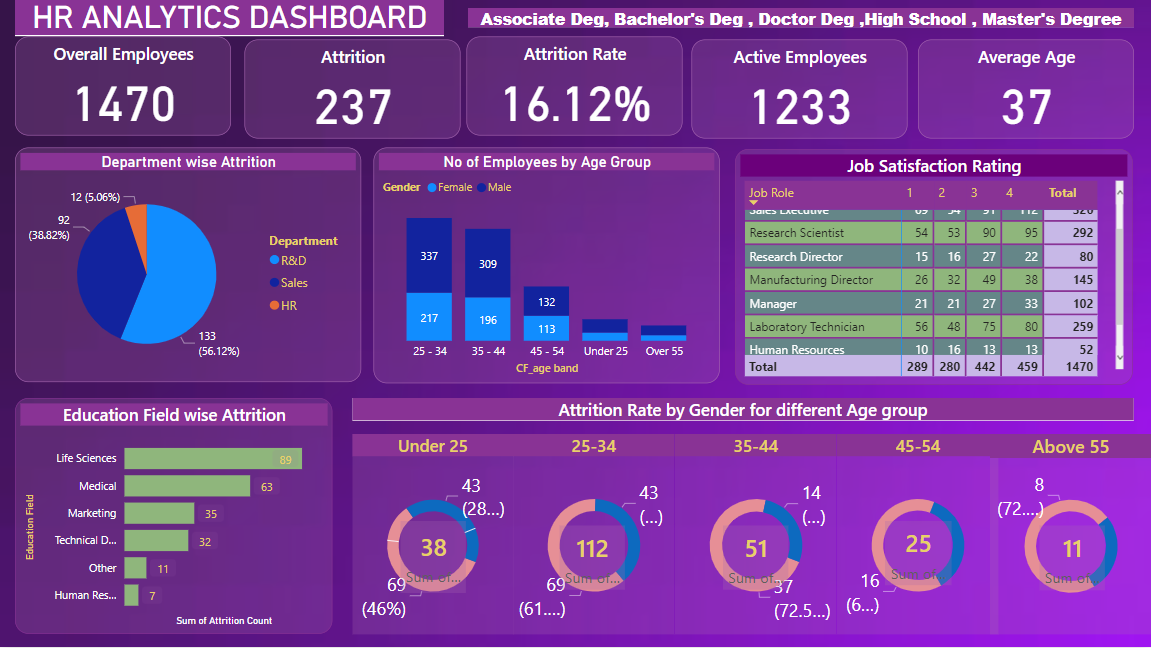

What the dashboard file says about the page in this screenshot:
{"tool":"powerbi","page":{"name":"Page 1","canvas":[1280,720],"ordinal":0},"visuals":[{"type":"card","title":"Attrition","fields":{"Values":["Sum(HR data.Attrition Count)"]},"box":[271.4,44.3,240,110],"z":0},{"type":"card","title":"Overall Employees","fields":{"Values":["Sum(HR data.Employee Count)"]},"box":[17.1,41.4,240,110],"z":1000},{"type":"card","title":"Attrition Rate","fields":{"Values":["HR data.Attrition Rate"]},"box":[518.6,41.4,240,110],"z":2000},{"type":"card","title":"Active Employees","fields":{"Values":["HR data.Active employees"]},"box":[768.6,44.3,240,110],"z":3000},{"type":"card","title":"Average Age","fields":{"Values":["Avg(HR data.Age)"]},"box":[1020,44.3,240,110],"z":4000},{"type":"pieChart","title":"Department wise Attrition","fields":{"Category":["HR data.Department"],"Y":["Sum(HR data.Attrition Count)"]},"box":[17.5,165.3,384.6,260.7],"z":5000},{"type":"columnChart","title":"No of Employees by Age Group","fields":{"Y":["Sum(HR data.Employee Count)"],"Series":["HR data.Gender"],"Category":["HR data.CF_age band"]},"box":[414.8,165.3,384.6,262.3],"z":6000},{"type":"pivotTable","title":"Job Satisfaction Rating","fields":{"Rows":["HR data.Job Role"],"Columns":["HR data.Job Satisfaction"],"Values":["Sum(HR data.Employee Count)"]},"box":[817,166.9,441.9,262.3],"z":7000},{"type":"barChart","title":"Education Field wise Attrition ","fields":{"Category":["HR data.Education Field"],"Y":["Sum(HR data.Attrition Count)"]},"box":[17.5,443.4,352.8,262.3],"z":8000},{"type":"donutChart","title":"35-44","fields":{"Category":["HR data.Gender"],"Y":["Sum(HR data.Attrition Count)"],"Series":["HR data.CF_age band"]},"box":[750.2,483.2,179.6,222.5],"z":9000},{"type":"textbox","title":"Attrition Rate by Gender for different Age group","box":[391,443.4,867.8,25.4],"z":10000},{"type":"donutChart","title":" Under 25","fields":{"Category":["HR data.Gender"],"Y":["Sum(HR data.Attrition Count)"],"Series":["HR data.CF_age band"]},"box":[391.4,482.9,178.6,222.9],"z":11000},{"type":"donutChart","title":"25-34","fields":{"Category":["HR data.Gender"],"Y":["Sum(HR data.Attrition Count)"],"Series":["HR data.CF_age band"]},"box":[570.6,483.2,179.6,222.5],"z":12000},{"type":"donutChart","title":"45-54","fields":{"Category":["HR data.Gender"],"Y":["Sum(HR data.Attrition Count)"],"Series":["HR data.CF_age band"]},"box":[929.8,483.2,179.6,222.5],"z":13000},{"type":"donutChart","title":"Above 55","fields":{"Category":["HR data.Gender"],"Y":["Sum(HR data.Attrition Count)"],"Series":["HR data.CF_age band"]},"box":[1099.9,483.2,179.6,222.5],"z":14000},{"type":"card","fields":{"Values":["Sum(HR data.Attrition Count)"]},"box":[802.9,584.3,72.9,71.4],"z":15000},{"type":"card","fields":{"Values":["Sum(HR data.Attrition Count)"]},"box":[982.9,580,74.3,71.4],"z":16000},{"type":"card","fields":{"Values":["Sum(HR data.Attrition Count)"]},"box":[1154.3,584.3,72.9,72],"z":17000},{"type":"card","fields":{"Values":["Sum(HR data.Attrition Count)"]},"box":[621.4,584.3,72.9,71.4],"z":18000},{"type":"card","fields":{"Values":["Sum(HR data.Attrition Count)"]},"box":[445.7,580,72.9,80],"z":19000},{"type":"textbox","title":"HR ANALYTICS DASHBOARD","box":[17.5,0,476.8,41.3],"z":20000},{"type":"textbox","title":"Associate Deg, Bachelor''s Deg ,  Doctor Deg ,High School , Master''s Degree ","box":[520,10,740,21.4],"z":21000}]}

Visuals, with their boxes in screenshot pixels (x1, y1, x2, y2), scaled from the page's 1280x720 canvas onto the 1151x648 screenshot:
"Attrition" card: box(244, 40, 460, 139)
"Overall Employees" card: box(15, 37, 231, 136)
"Attrition Rate" card: box(466, 37, 682, 136)
"Active Employees" card: box(691, 40, 907, 139)
"Average Age" card: box(917, 40, 1133, 139)
"Department wise Attrition" pieChart: box(16, 149, 362, 383)
"No of Employees by Age Group" columnChart: box(373, 149, 719, 385)
"Job Satisfaction Rating" pivotTable: box(735, 150, 1132, 386)
"Education Field wise Attrition " barChart: box(16, 399, 333, 635)
"35-44" donutChart: box(675, 435, 836, 635)
"Attrition Rate by Gender for different Age group" textbox: box(352, 399, 1132, 422)
" Under 25" donutChart: box(352, 435, 513, 635)
"25-34" donutChart: box(513, 435, 675, 635)
"45-54" donutChart: box(836, 435, 998, 635)
"Above 55" donutChart: box(989, 435, 1150, 635)
card - Sum(HR data.Attrition Count): box(722, 526, 788, 590)
card - Sum(HR data.Attrition Count): box(884, 522, 951, 586)
card - Sum(HR data.Attrition Count): box(1038, 526, 1104, 591)
card - Sum(HR data.Attrition Count): box(559, 526, 624, 590)
card - Sum(HR data.Attrition Count): box(401, 522, 466, 594)
"HR ANALYTICS DASHBOARD" textbox: box(16, 0, 444, 37)
"Associate Deg, Bachelor''s Deg ,  Doctor Deg ,High School , Master''s Degree " textbox: box(468, 9, 1133, 28)
